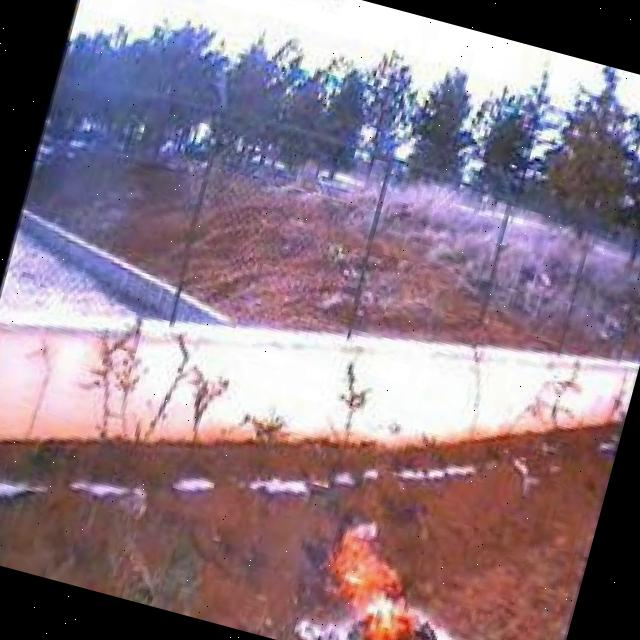fire: (305, 511, 466, 640)
